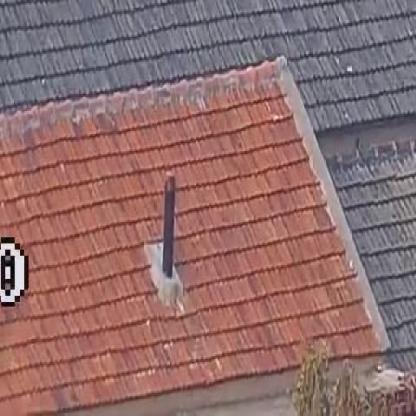other: (191, 114, 346, 337)
